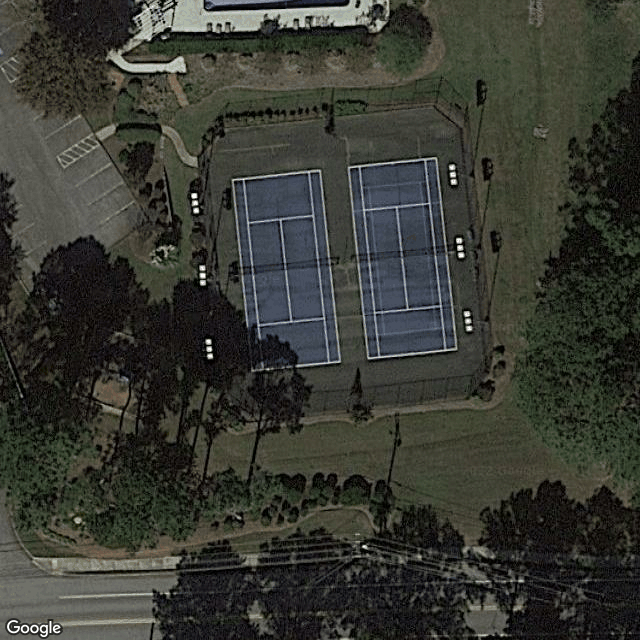Court: (229, 167, 343, 371), (346, 156, 460, 360)
